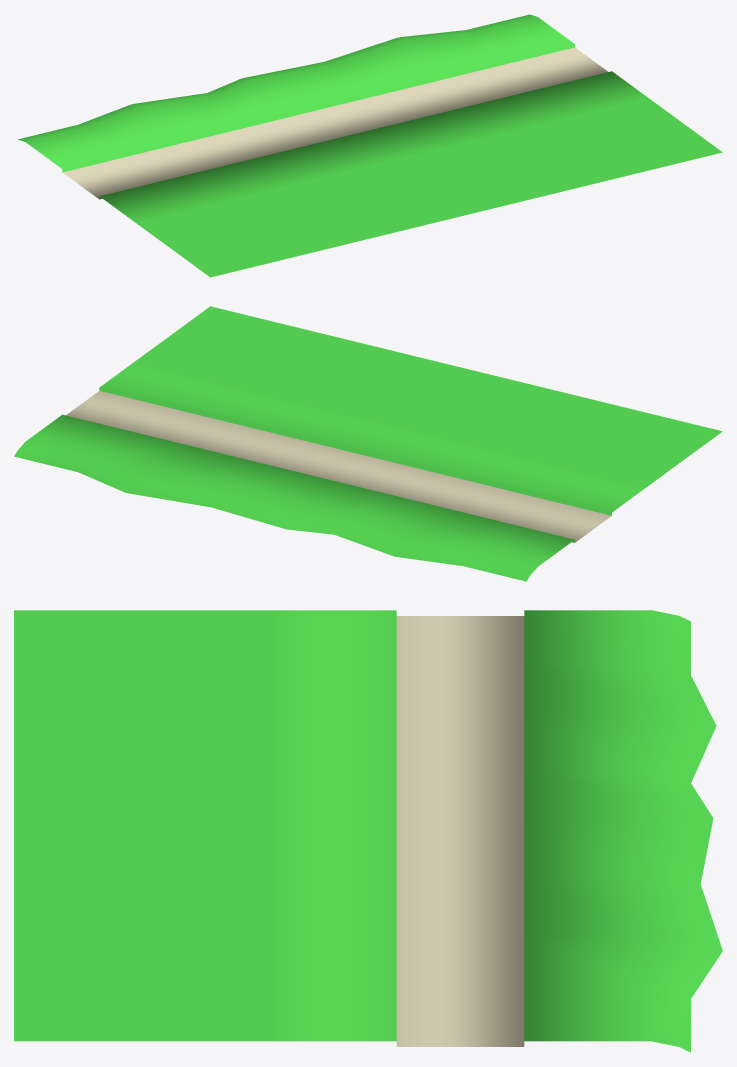
File: MDL_Grass.fbx
The picture shows the model from 3 angles, top to bottom: view 1: azimuth 30°, elevation 25°; view 2: azimuth 150°, elevation 25°; view 3: azimuth 270°, elevation 25°; orthographic projection. The views are drawn at different scales.
Visible parts, largest first — view 1: mesh_grass; view 2: mesh_grass; view 3: mesh_grass.
Part boxes in pixels (x1,y1,x2,y2): mesh_grass: [17, 14, 722, 277]; mesh_grass: [14, 306, 722, 581]; mesh_grass: [14, 610, 722, 1052].
Size of the model in its own units: 800 by 9.79 by 556.
Materials: 1 (1 with a texture image).
